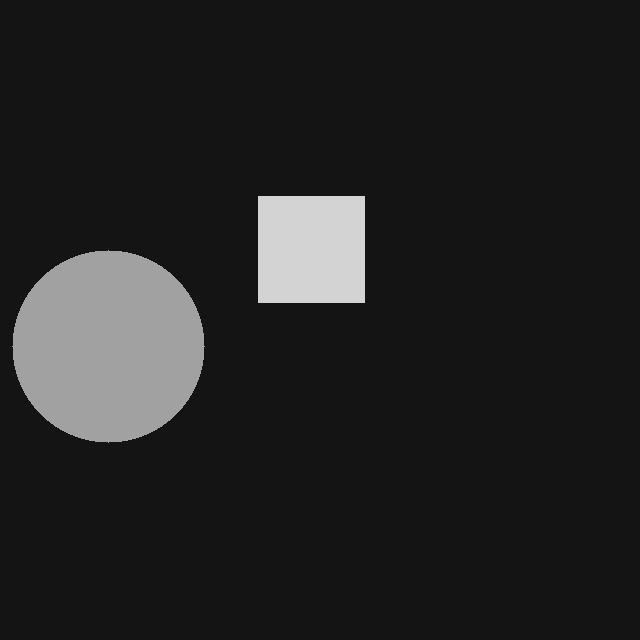circle: (12, 250, 204, 442)
square: (258, 196, 364, 302)
